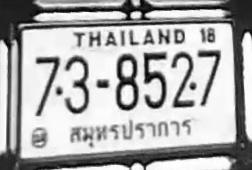2: (170, 51, 195, 108)
3: (62, 54, 89, 114)
5: (143, 51, 166, 108)
7: (34, 55, 60, 116), (197, 48, 220, 106)
8: (114, 52, 138, 110)
SPK: (66, 113, 197, 149)
